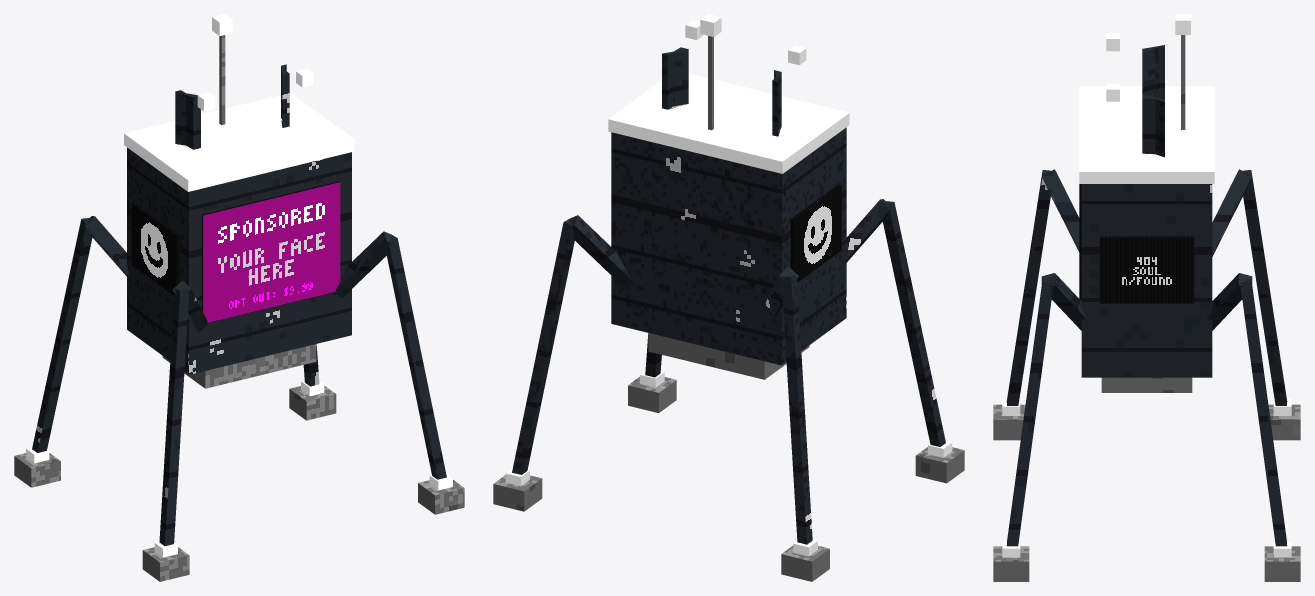
Rendered from sentinel_x.glb.
The picture shows the model from 3 angles, left to right: view 1: azimuth 30°, elevation 25°; view 2: azimuth 150°, elevation 25°; view 3: azimuth 270°, elevation 25°; orthographic projection. The views are drawn at different scales.
Parts seen in each view (by area): view 1: prop, leg_0, leg_3, leg_2, leg_1; view 2: prop, leg_1, leg_3, leg_2, leg_0; view 3: prop, leg_0, leg_1, leg_2, leg_3.
Boxes of the visible parts, box(x1,y1,x2,y2) form: prop: box(124, 14, 354, 388); leg_0: box(332, 231, 464, 514); leg_3: box(142, 280, 208, 581); leg_2: box(14, 216, 129, 487); leg_1: box(289, 344, 336, 420); prop: box(608, 14, 849, 379); leg_1: box(493, 215, 631, 511); leg_3: box(844, 199, 964, 483); leg_2: box(761, 266, 829, 581); leg_0: box(628, 334, 676, 412); prop: box(1079, 14, 1214, 392); leg_0: box(993, 273, 1086, 581); leg_1: box(1207, 273, 1300, 581); leg_2: box(1212, 169, 1300, 440); leg_3: box(993, 169, 1079, 440).
Size of the model in its own units: 1.64 by 2.37 by 1.36.
Materials: 1 (1 with a texture image).
